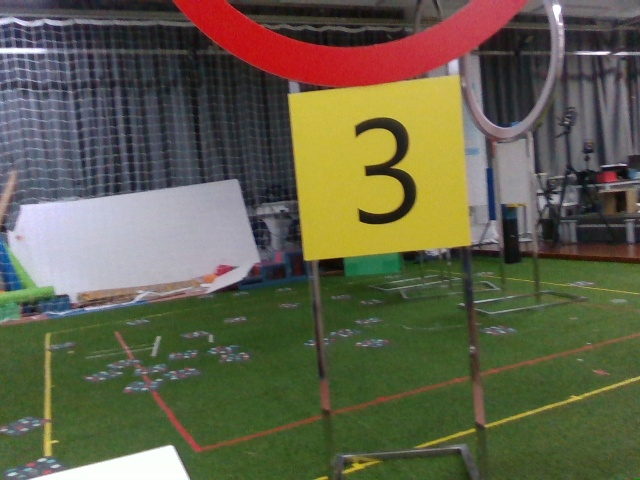target: (297, 91, 466, 246)
